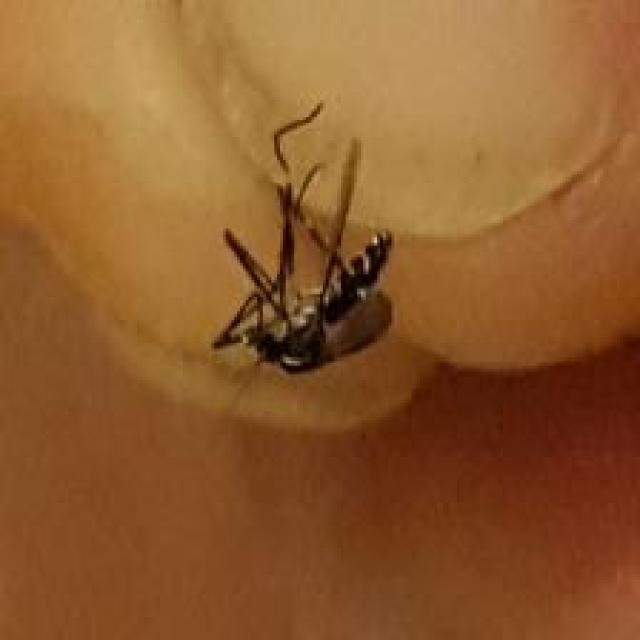Aedes albopictus: (210, 100, 396, 377)
